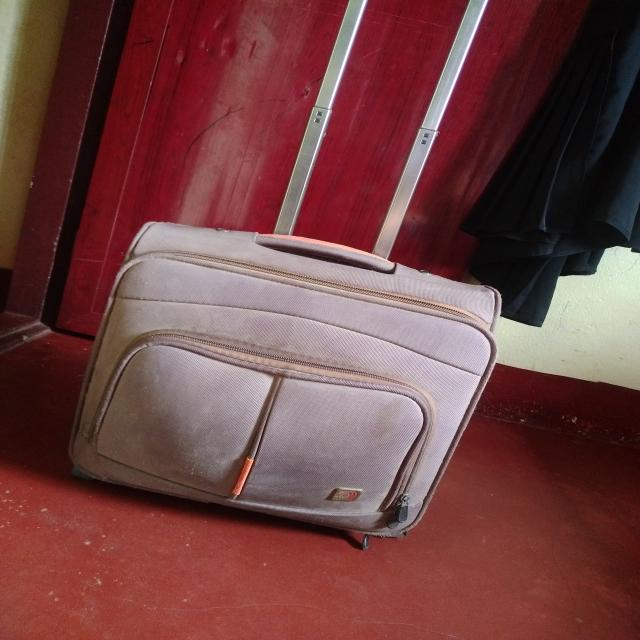suitcaserotation: (62, 0, 507, 553)
